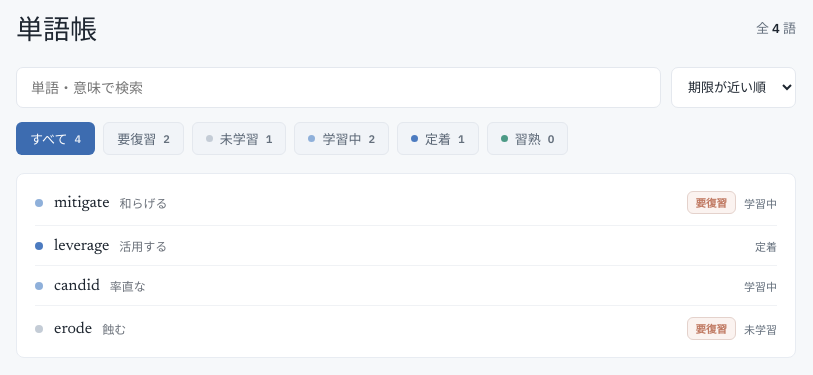
Test: <WordbookScreen/> › filters the list by mastery stage (11.2)
Click the button with test id "filter-Learning" at [342, 138], box [294,122,389,155]
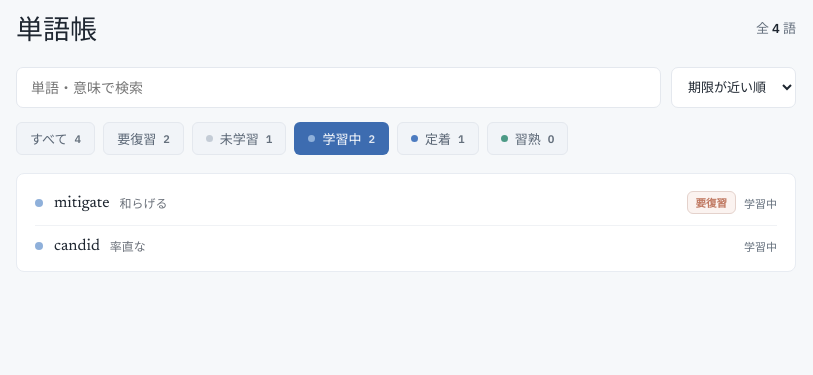
Expected: the button with test id "word-row-mitigate" is shown, [35,180,777,225]
Expected: the button with test id "word-row-leverage" is gone
Expected: the button with test id "word-row-erode" is gone
